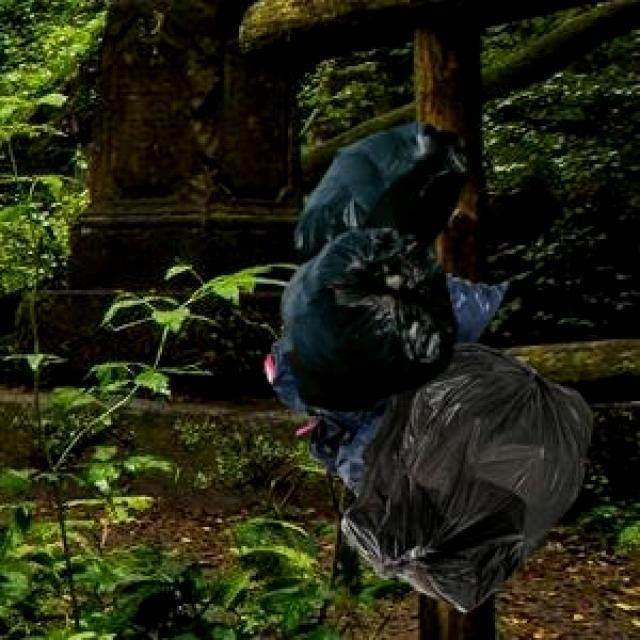Trashbag: (340, 339, 595, 614), (275, 225, 461, 411), (288, 117, 478, 263)
